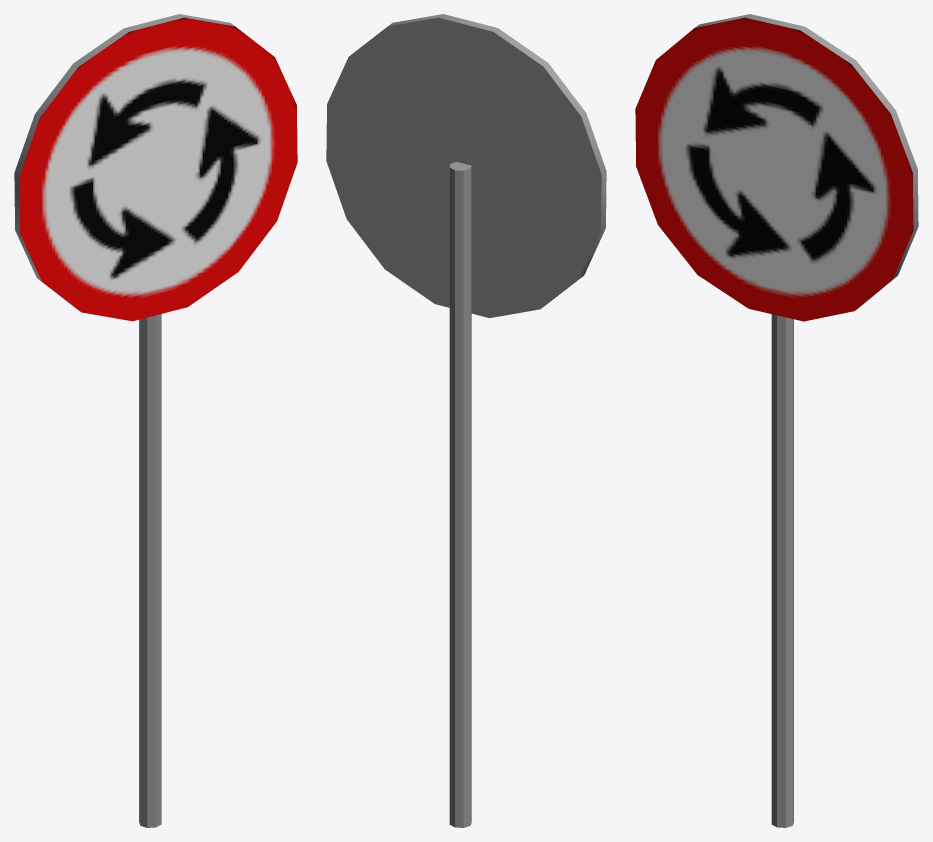
Rendered from PlacaRotatoria.fbx.
3 renders of one model, left to right at view 1: azimuth 30°, elevation 25°; view 2: azimuth 150°, elevation 25°; view 3: azimuth 330°, elevation 25°, orthographic.
Visible parts, largest first — view 1: PlacaRotatoria; view 2: PlacaRotatoria; view 3: PlacaRotatoria.
Part boxes in pixels (bbox=[...]): PlacaRotatoria: bbox=[14, 14, 297, 827]; PlacaRotatoria: bbox=[326, 14, 606, 827]; PlacaRotatoria: bbox=[635, 14, 918, 827].
Bounding box in the file's own units: 97.94 × 271 × 8.6.
